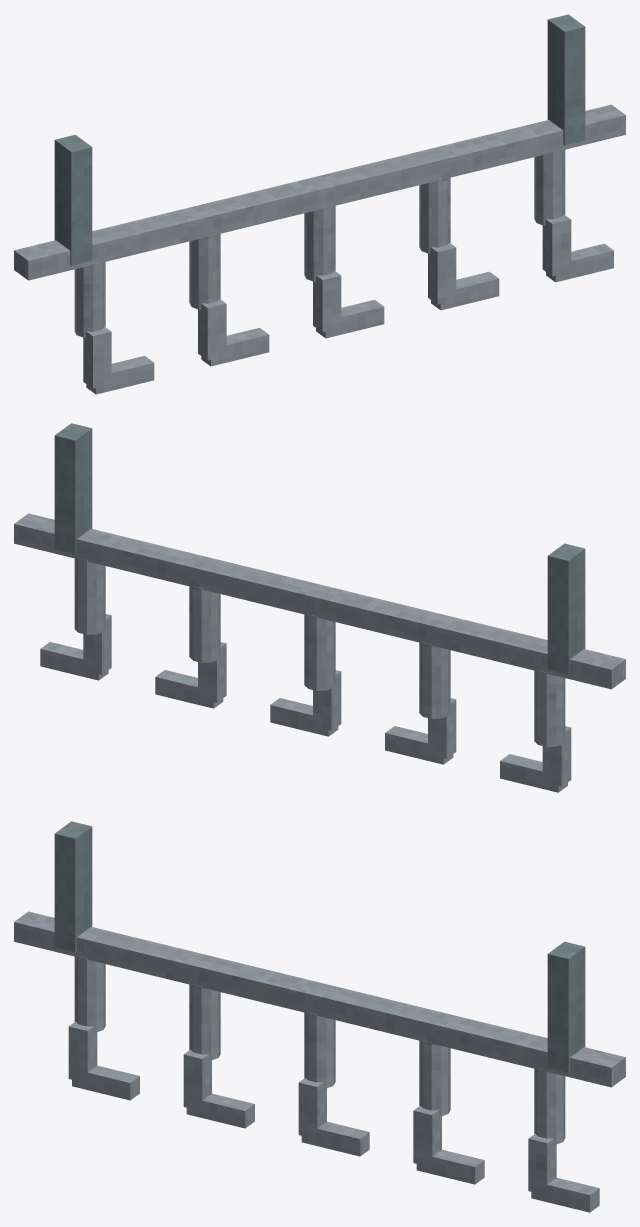
The model's file is level_blockout_cannery_hanging_hook_rail.glb.
The picture shows the model from 3 angles, top to bottom: view 1: azimuth 30°, elevation 25°; view 2: azimuth 150°, elevation 25°; view 3: azimuth 330°, elevation 25°; orthographic projection.
Parts seen in each view (by area): view 1: level_blockout_cannery_hanging_hook_rail; view 2: level_blockout_cannery_hanging_hook_rail; view 3: level_blockout_cannery_hanging_hook_rail.
Part boxes in pixels (x1,y1,x2,y2): level_blockout_cannery_hanging_hook_rail: (14,14,625,394); level_blockout_cannery_hanging_hook_rail: (14,423,625,792); level_blockout_cannery_hanging_hook_rail: (14,821,625,1212).
Size of the model in its own units: 2.86 by 1.12 by 0.17.
Materials: 2 (2 with a texture image).
